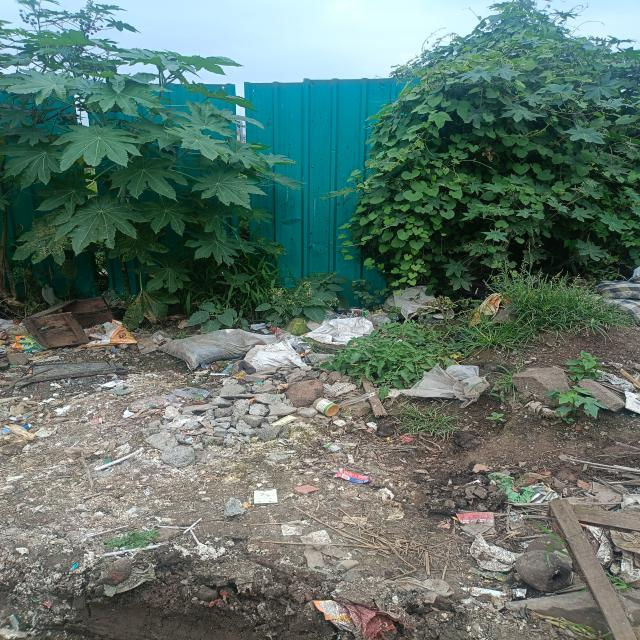garbage: (316, 466, 640, 630), (16, 286, 429, 406)
